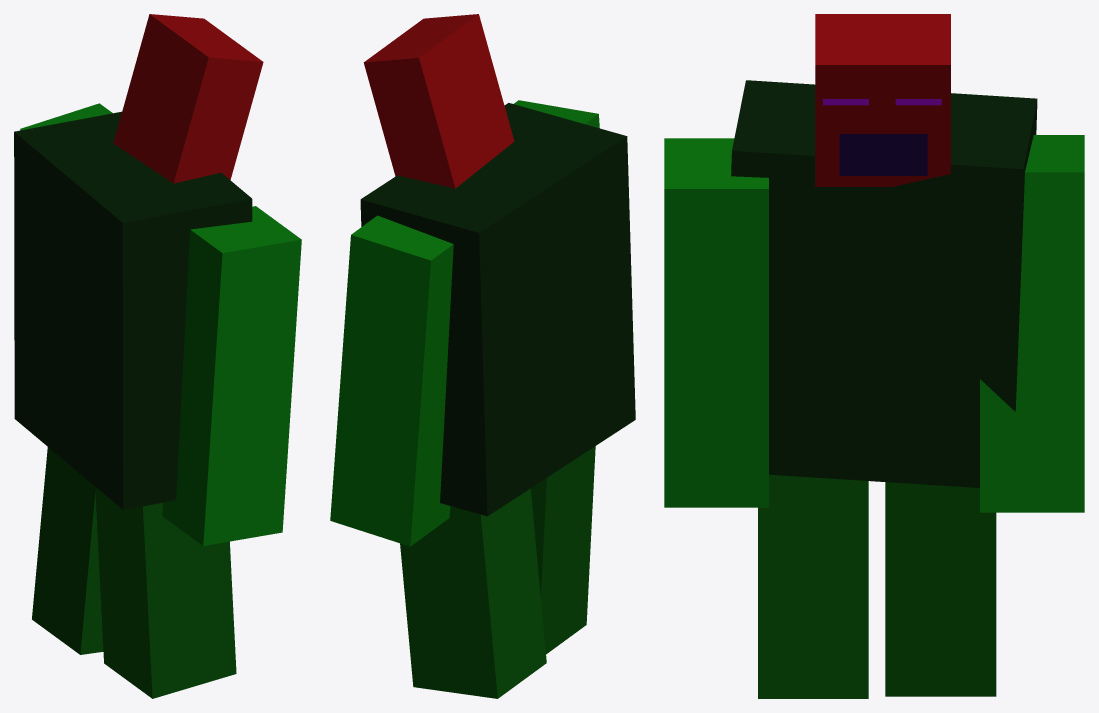
File: walk_000029.obj
The picture shows the model from 3 angles, left to right: view 1: azimuth 30°, elevation 25°; view 2: azimuth 150°, elevation 25°; view 3: azimuth 270°, elevation 25°; orthographic projection. The views are drawn at different scales.
Parts seen in each view (by area): view 1: Cube, leg.002_Cube.006, leg.001_Cube.007, Cube.001_Cube.003, leg_Cube.001, leg.003_Cube.002; view 2: Cube, leg.003_Cube.002, leg_Cube.001, Cube.001_Cube.003, leg.001_Cube.007, leg.002_Cube.006; view 3: Cube, leg.002_Cube.006, leg.003_Cube.002, leg.001_Cube.007, leg_Cube.001, Cube.001_Cube.003, Plane.002.
Part boxes in pixels (x1,y1,x2,y2): Cube: [14, 111, 252, 509]; leg.002_Cube.006: [162, 206, 301, 545]; leg.001_Cube.007: [95, 487, 236, 698]; Cube.001_Cube.003: [113, 14, 263, 183]; leg_Cube.001: [32, 447, 103, 654]; leg.003_Cube.002: [20, 103, 112, 130]; Cube: [360, 103, 635, 516]; leg.003_Cube.002: [330, 215, 453, 546]; leg_Cube.001: [400, 488, 546, 698]; Cube.001_Cube.003: [363, 14, 514, 188]; leg.001_Cube.007: [530, 446, 595, 654]; leg.002_Cube.006: [514, 100, 599, 128]; Cube: [731, 80, 1037, 487]; leg.002_Cube.006: [664, 138, 768, 507]; leg.003_Cube.002: [980, 135, 1084, 512]; leg.001_Cube.007: [758, 474, 868, 698]; leg_Cube.001: [885, 482, 996, 696]; Cube.001_Cube.003: [815, 14, 950, 186]; Plane.002: [839, 134, 927, 175].
Size of the model in its own units: 1.9 by 6.28 by 3.47.
